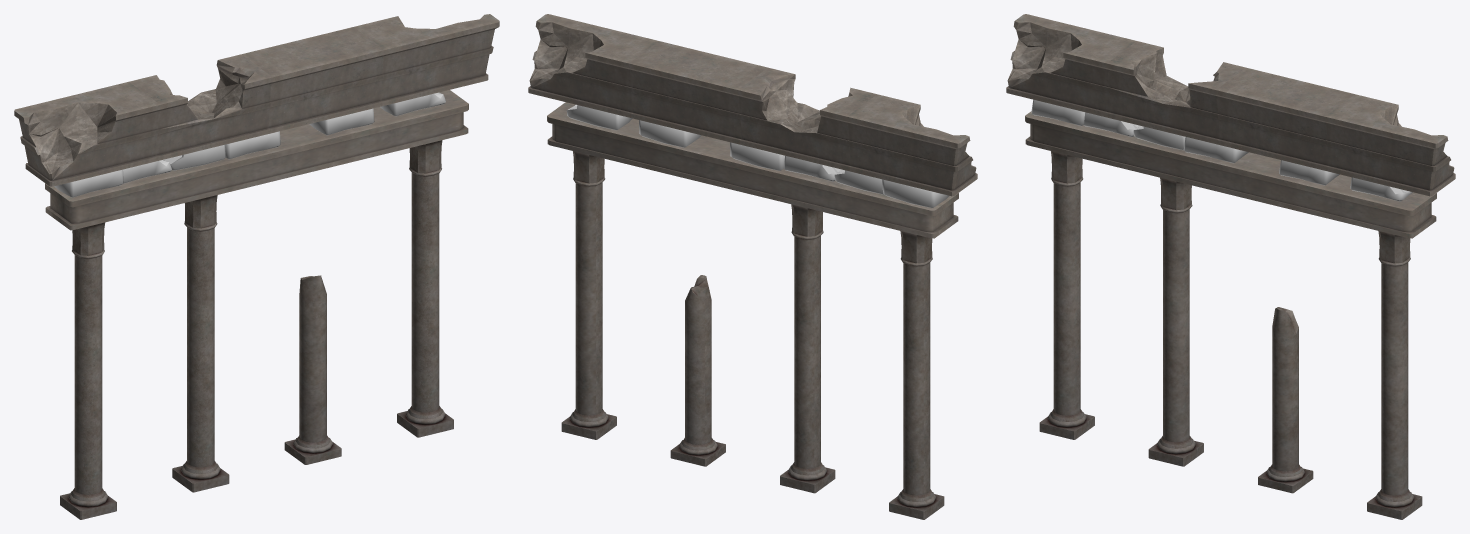
File: sb_obj_outdoor009_AncientTemple_set03.fbx
The picture shows the model from 3 angles, left to right: view 1: azimuth 30°, elevation 25°; view 2: azimuth 150°, elevation 25°; view 3: azimuth 330°, elevation 25°; orthographic projection. The views are drawn at different scales.
Visible parts, largest first — view 1: sb_obj_outdoor009_AncientTemple_set03; view 2: sb_obj_outdoor009_AncientTemple_set03; view 3: sb_obj_outdoor009_AncientTemple_set03.
Boxes of the visible parts, x1,y1,x2,y2 form: sb_obj_outdoor009_AncientTemple_set03: [14, 14, 499, 519]; sb_obj_outdoor009_AncientTemple_set03: [528, 14, 977, 519]; sb_obj_outdoor009_AncientTemple_set03: [1006, 14, 1455, 519].
Bounding box in the file's own units: 8.79 × 7.38 × 1.05.
